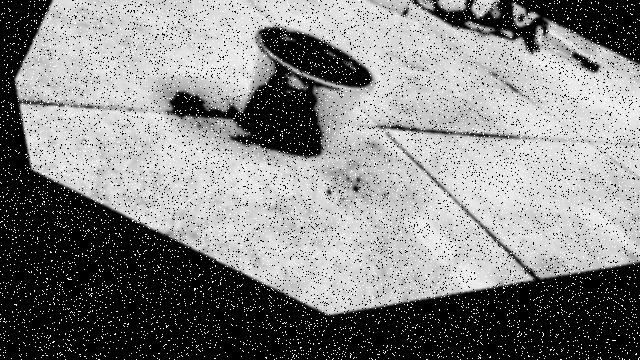pot: (243, 25, 374, 154)
